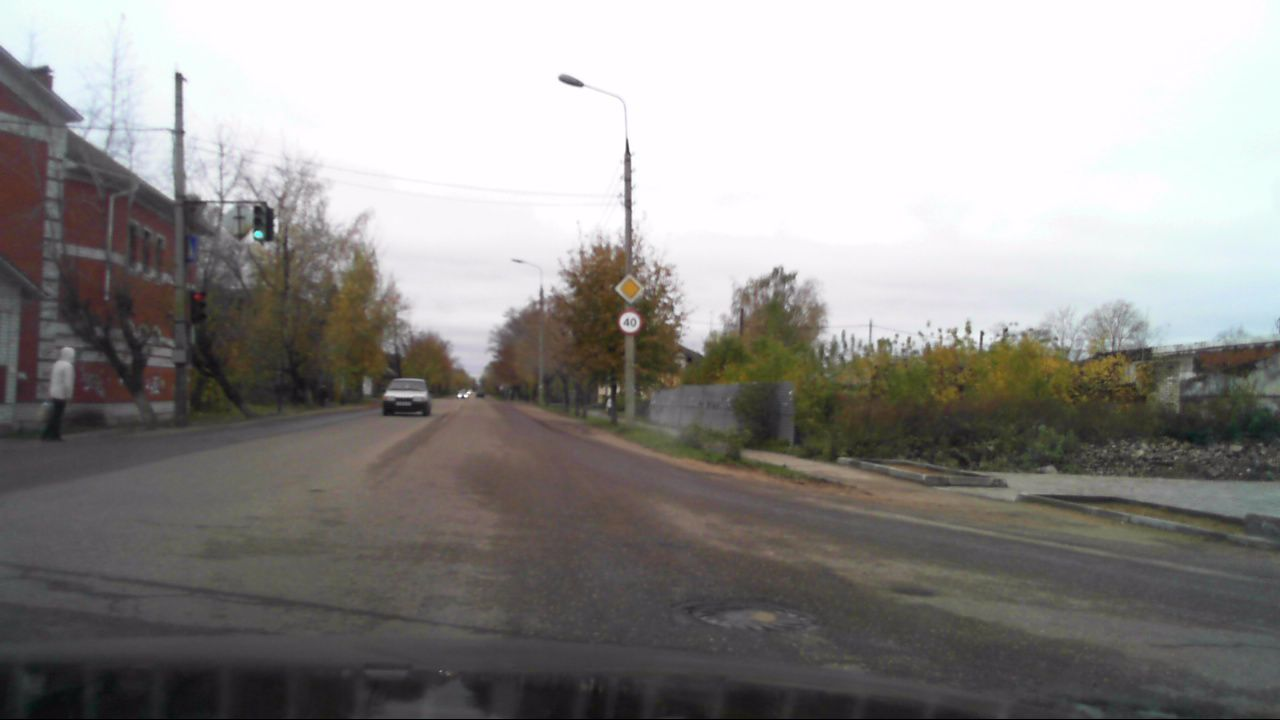speed_warning_40: (616, 309, 642, 336)
